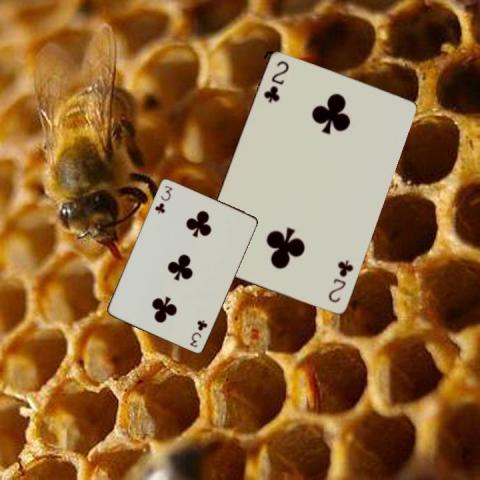2c: (326, 256, 356, 304), (261, 58, 288, 105)
3c: (186, 316, 208, 348), (152, 182, 173, 215)
